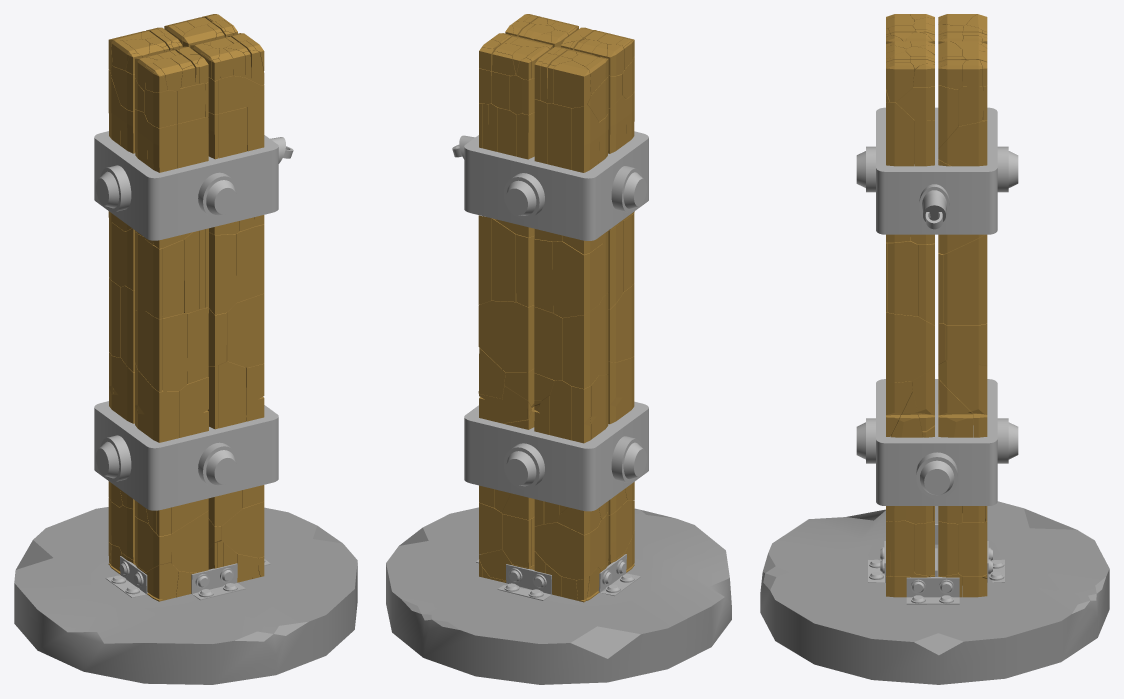
3 views of the same model, side by side, from view 1: azimuth 30°, elevation 25°; view 2: azimuth 150°, elevation 25°; view 3: azimuth 270°, elevation 25° (orthographic).
Parts seen in each view (by area): view 1: Circle.012, Cube.029, Cube.025, Cube.149_cell.239, Cube.148_cell.244, Cube.149_cell.282, Cube.149_cell.276, Cube.148_cell.297, Cube.148_cell.232, Cube.148_cell.300, Cube.149_cell.279, Cube.149_cell.267 (+39 smaller); view 2: Circle.012, Cube.029, Cube.025, Cube.146_cell.360, Cube.147_cell.248, Cube.147_cell.264, Cube.147_cell.253, Cube.147_cell.256, Cube.146_cell.337, Cube.148_cell.297, Cube.147_cell.227, Cube.147_cell.237 (+34 smaller); view 3: Circle.012, Cube.029, Cube.025, Cube.146_cell.376, Cube.149_cell.239, Cube.149_cell.216, Cube.146_cell.339, Cube.146_cell.414, Cube.149_cell.263, Cube.030, Cube.026, Cube.146_cell.354 (+19 smaller).
Part boxes in pixels (bbox=[...]): Circle.012: bbox=[14, 507, 357, 684]; Cube.029: bbox=[94, 131, 278, 240]; Cube.025: bbox=[94, 401, 278, 510]; Cube.149_cell.239: bbox=[227, 293, 264, 367]; Cube.148_cell.244: bbox=[137, 368, 178, 442]; Cube.149_cell.282: bbox=[209, 232, 236, 314]; Cube.149_cell.276: bbox=[236, 224, 264, 302]; Cube.148_cell.297: bbox=[135, 310, 162, 392]; Cube.148_cell.232: bbox=[162, 313, 187, 391]; Cube.148_cell.300: bbox=[171, 510, 208, 572]; Cube.149_cell.279: bbox=[221, 501, 264, 557]; Cube.149_cell.267: bbox=[218, 360, 246, 428]; Circle.012: bbox=[386, 507, 731, 684]; Cube.029: bbox=[464, 131, 648, 240]; Cube.025: bbox=[464, 401, 648, 511]; Cube.146_cell.360: bbox=[478, 300, 534, 372]; Cube.147_cell.248: bbox=[553, 241, 603, 317]; Cube.147_cell.264: bbox=[534, 522, 597, 579]; Cube.147_cell.253: bbox=[562, 305, 598, 388]; Cube.147_cell.256: bbox=[534, 307, 562, 380]; Cube.146_cell.337: bbox=[491, 218, 516, 301]; Cube.148_cell.297: bbox=[608, 283, 634, 362]; Cube.147_cell.227: bbox=[572, 105, 599, 172]; Cube.147_cell.237: bbox=[553, 60, 590, 107]; Circle.012: bbox=[760, 501, 1109, 684]; Cube.029: bbox=[876, 107, 997, 234]; Cube.025: bbox=[876, 379, 997, 505]; Cube.146_cell.376: bbox=[943, 234, 987, 325]; Cube.149_cell.239: bbox=[886, 312, 934, 382]; Cube.149_cell.216: bbox=[887, 237, 917, 316]; Cube.146_cell.339: bbox=[938, 361, 987, 413]; Cube.146_cell.414: bbox=[938, 120, 987, 166]; Cube.149_cell.263: bbox=[886, 102, 914, 166]; Cube.030: bbox=[856, 146, 1018, 192]; Cube.026: bbox=[856, 418, 1018, 463]; Cube.146_cell.354: bbox=[958, 514, 987, 576].
Bounding box in the file's own units: 220 × 397 × 220.
